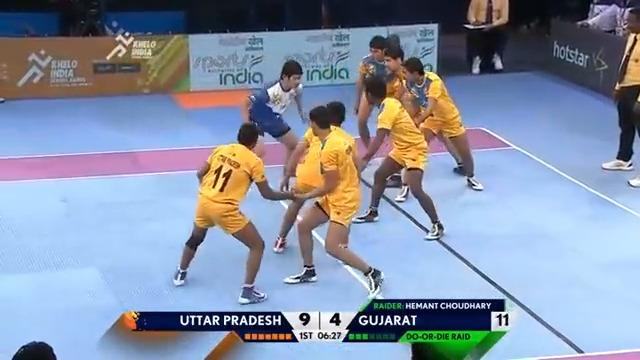Player: (172, 121, 298, 305), (281, 101, 384, 299), (351, 75, 445, 240), (395, 56, 484, 193), (600, 6, 639, 187)
Raider: (239, 58, 308, 188)
referee: (462, 0, 510, 74), (61, 0, 106, 36), (11, 340, 57, 359)
